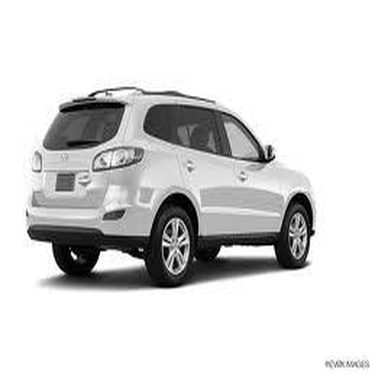car: (1, 81, 330, 276)
